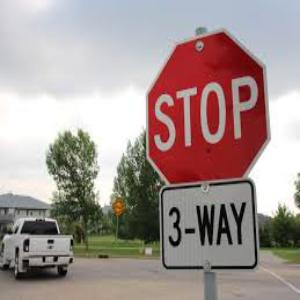STOP_SIGN: (145, 27, 271, 183)
